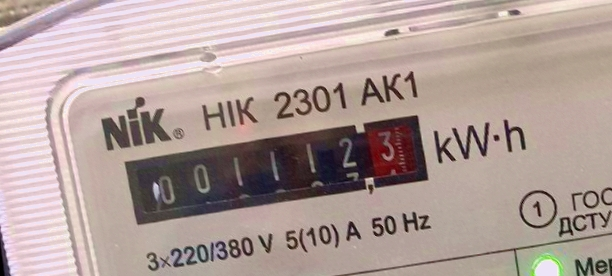0: (188, 157, 215, 198), (154, 169, 180, 206)
1: (227, 150, 249, 190), (264, 144, 283, 184), (302, 138, 320, 176)
2: (334, 132, 361, 171)
3: (375, 127, 397, 164)
screen: (116, 109, 437, 229)
